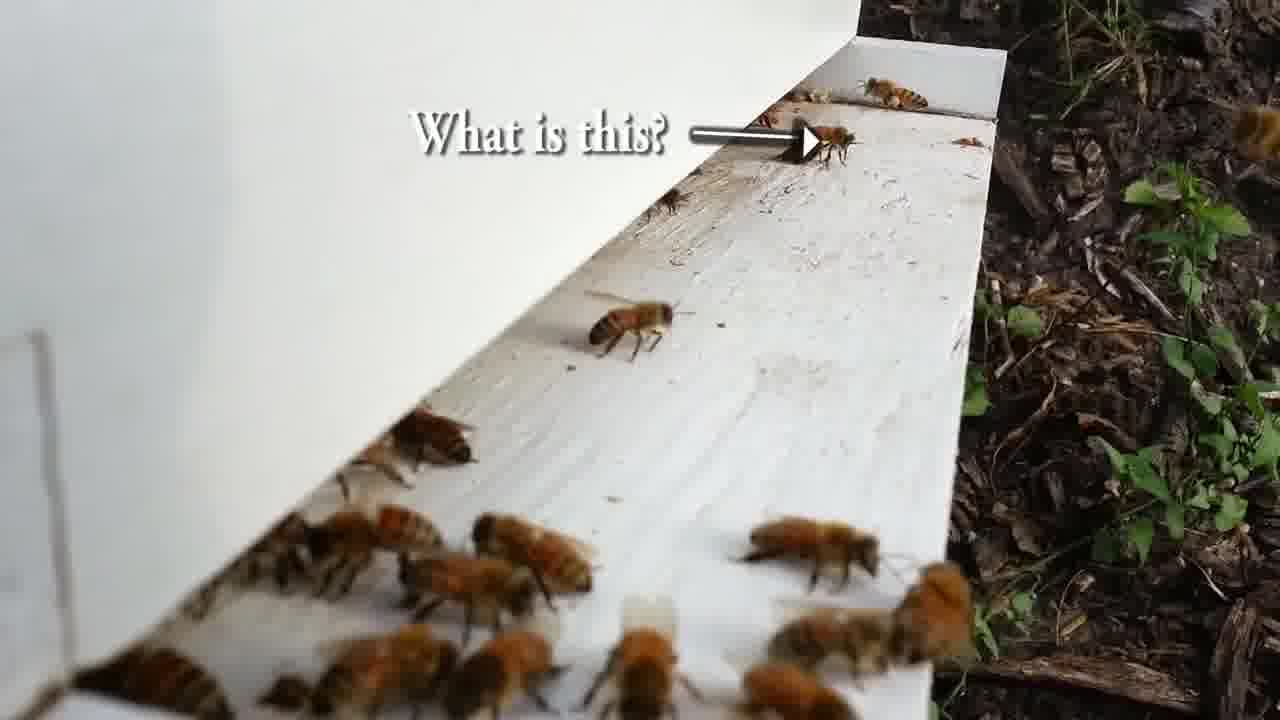pollen: (861, 76, 929, 116)
